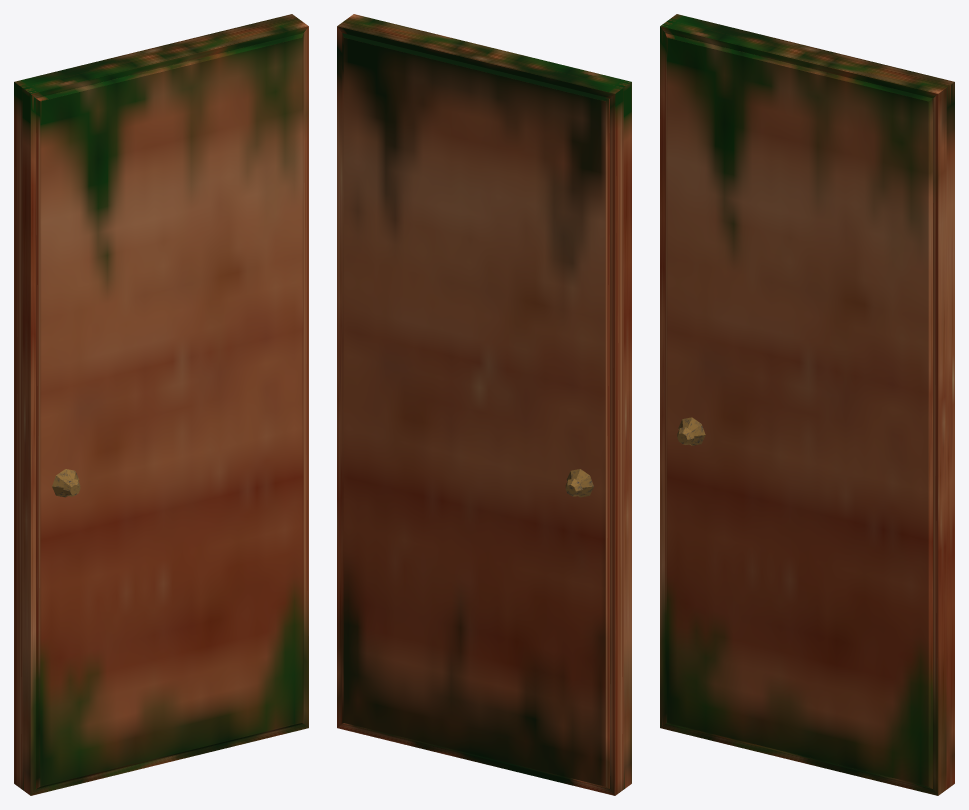
Rendered from porta chiusa.glb.
3 views of the same model, side by side, from view 1: azimuth 30°, elevation 25°; view 2: azimuth 150°, elevation 25°; view 3: azimuth 330°, elevation 25° (orthographic).
Parts seen in each view (by area): view 1: Door_7_Cube.054; view 2: Door_7_Cube.054; view 3: Door_7_Cube.054.
Part boxes in pixels (<box>): Door_7_Cube.054: <box>14,14,308,795</box>; Door_7_Cube.054: <box>337,14,631,795</box>; Door_7_Cube.054: <box>660,14,954,795</box>.
Size of the model in its own units: 0.9082 by 2.19 by 0.2198.
2 materials, 2 textured.
